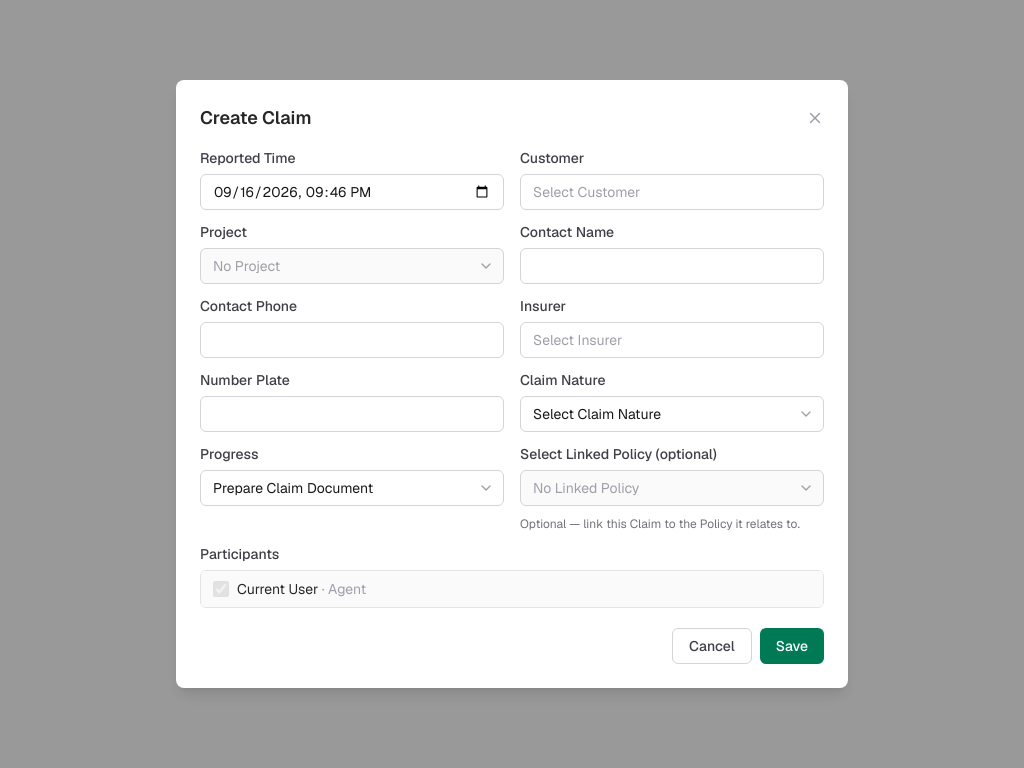
Test: MotorClaimFormModal — Customer SearchableSelect › Case 1: filters by Company Name substring
Type "jiang" into the field with placeholder "Select Customer".
click(672, 192); type("jiang")  # box top-left (520, 174), bottom-right (824, 210)
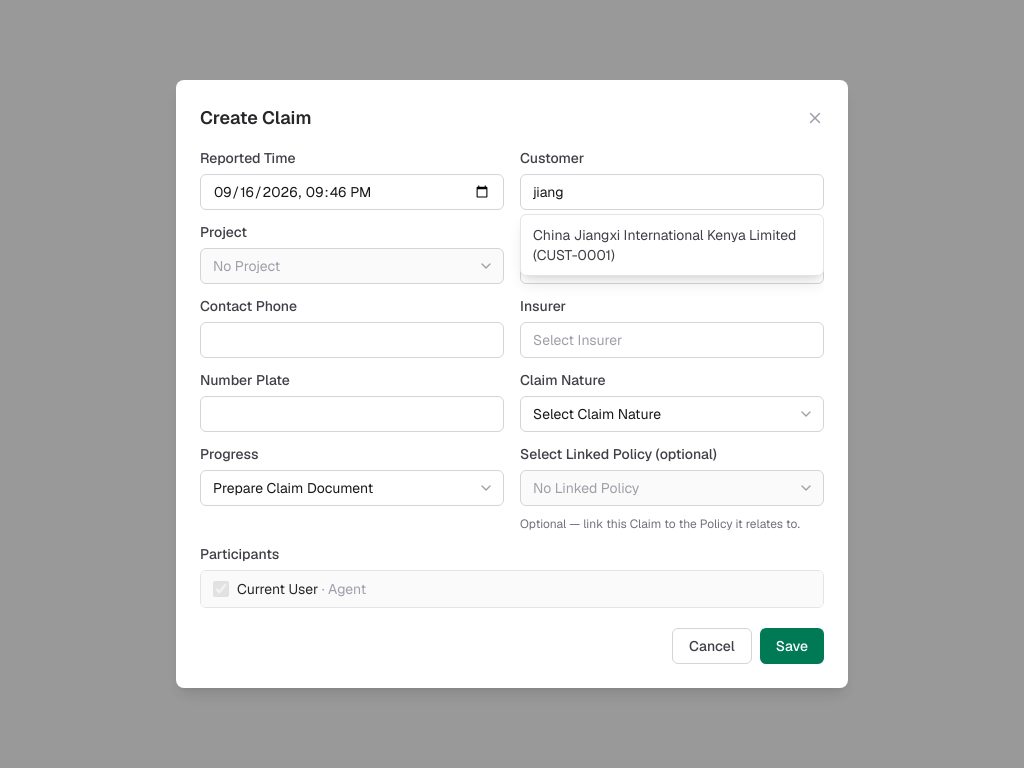
Expected: the button "China Jiangxi International Kenya Limited (CUST-0001)" is shown, top-left (521, 219), bottom-right (823, 271)
